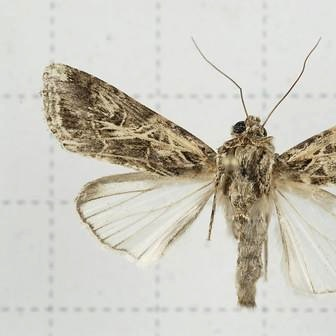Spodoptera litura: (39, 36, 336, 312)
